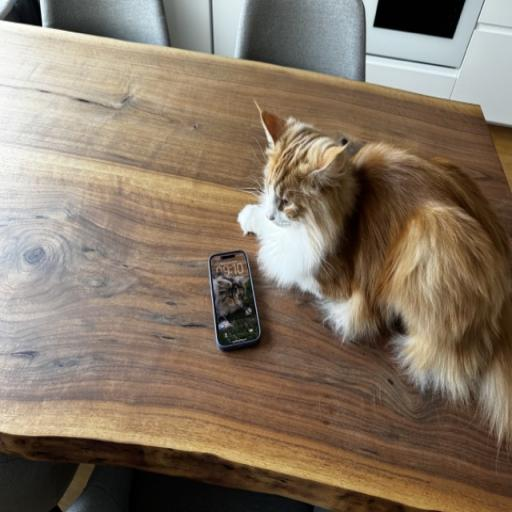phone: (212, 248, 273, 361)
